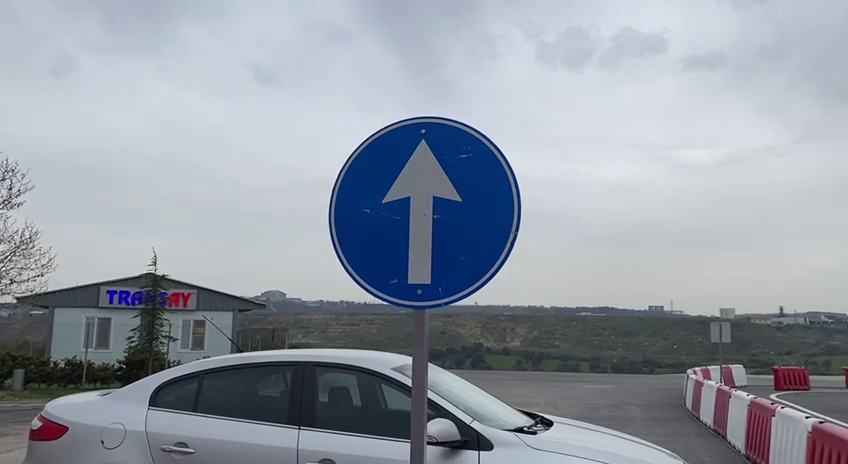forward: (324, 110, 527, 317)
